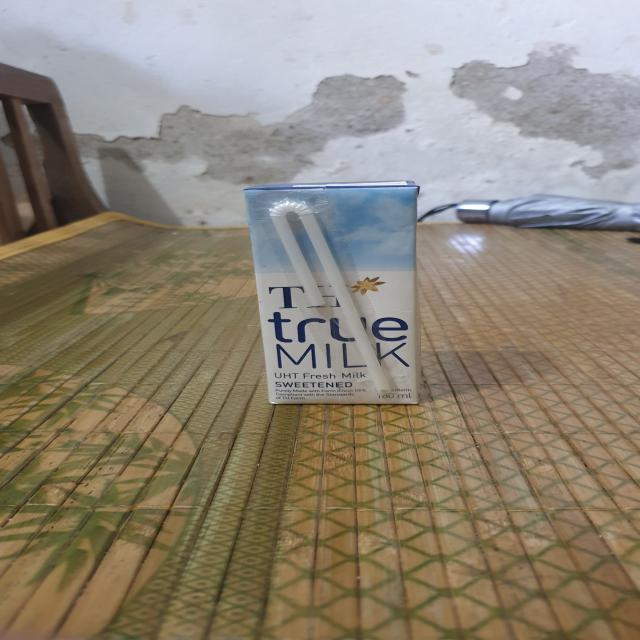TH: (245, 183, 421, 410)
